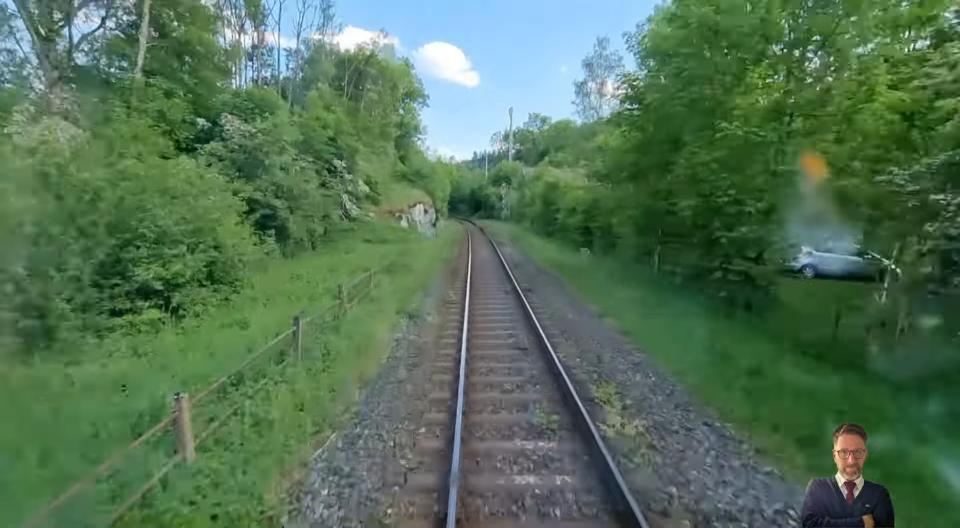Plant: (120, 230, 460, 528), (594, 381, 642, 437)
